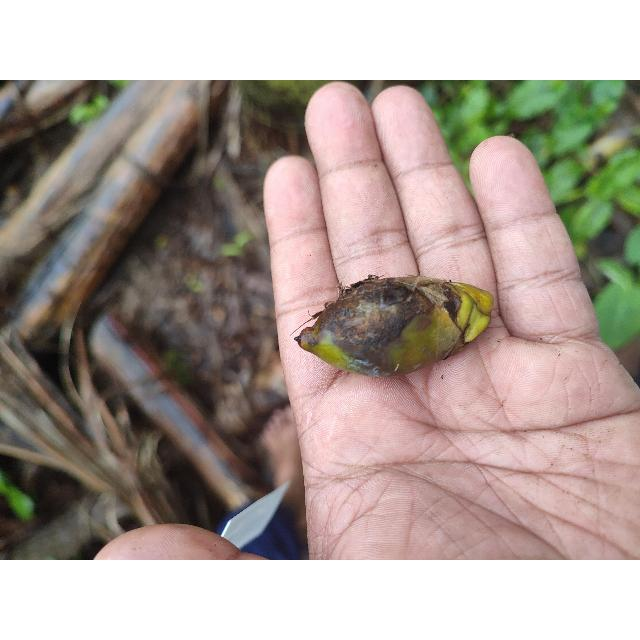damaged: (297, 277, 496, 378)
